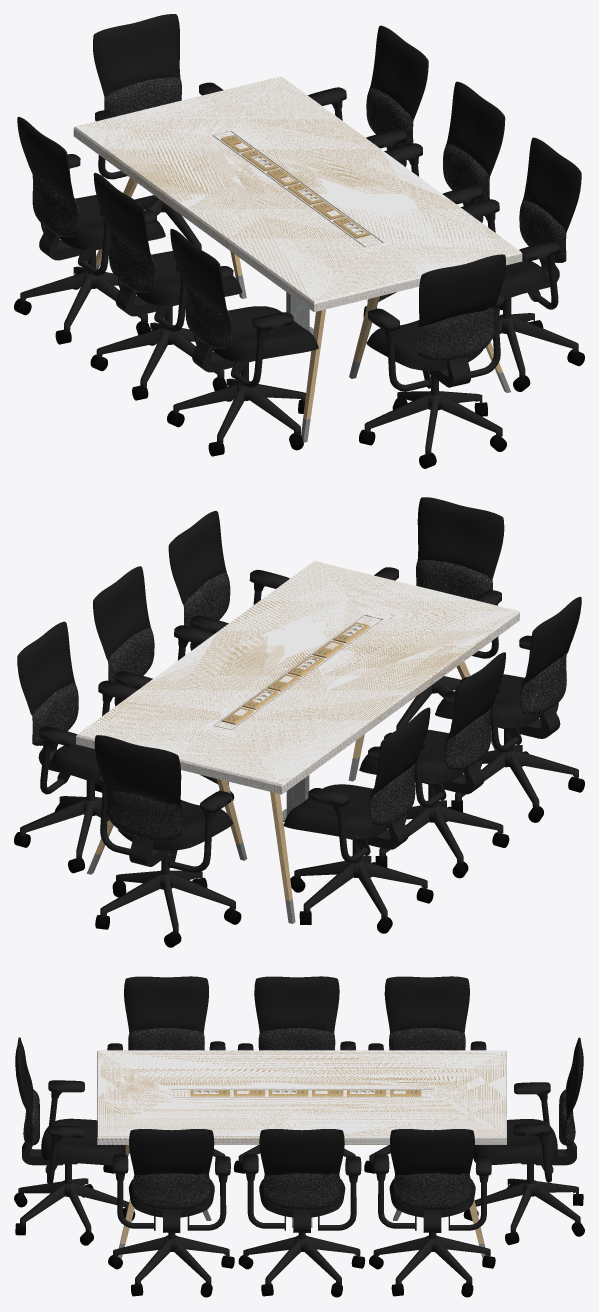
Rendered from meetingTable.dae.
The picture shows the model from 3 angles, top to bottom: view 1: azimuth 30°, elevation 25°; view 2: azimuth 150°, elevation 25°; view 3: azimuth 270°, elevation 25°; orthographic projection. The views are drawn at different scales.
Parts seen in each view (by area): view 1: group_2 (×2), Obj_000003 (×8), Obj_000017 (×8), Obj_000013 (×5), group_7 (×7), Obj_000012 (×4), Group_46, Obj_000021_1, group_8; view 2: group_2 (×2), Obj_000003 (×8), Obj_000017 (×8), Obj_000013 (×5), group_7 (×7), Obj_000012 (×4), Group_46, Obj_000021_1; view 3: group_2 (×2), Obj_000003 (×8), Obj_000017 (×8), group_7 (×16), Obj_000013 (×5), Obj_000021_1 (×6), group_8 (×4), Obj_000012 (×2).
Part boxes in pixels (box(x1,y1,x2,y2)): group_2 (×2): box(73, 76, 522, 312); Obj_000003 (×8): box(17, 14, 581, 327); Obj_000017 (×8): box(32, 77, 566, 360); Obj_000013 (×5): box(60, 195, 547, 371); group_7 (×7): box(20, 272, 578, 436); Obj_000012 (×4): box(39, 234, 471, 387); Group_46: box(303, 296, 502, 419); Obj_000021_1: box(387, 339, 429, 391); group_8: box(252, 312, 293, 330); group_2 (×2): box(76, 561, 519, 794); Obj_000003 (×8): box(17, 497, 581, 808); Obj_000017 (×8): box(32, 560, 566, 841); Obj_000013 (×5): box(50, 674, 539, 850); group_7 (×7): box(20, 750, 578, 916); Obj_000012 (×4): box(129, 712, 560, 866); Group_46: box(95, 779, 292, 900); Obj_000021_1: box(170, 821, 212, 872); group_2 (×2): box(97, 1050, 506, 1144); Obj_000003 (×8): box(15, 976, 583, 1176); Obj_000017 (×8): box(23, 1028, 575, 1209); group_7 (×16): box(20, 1182, 580, 1285); Obj_000013 (×5): box(41, 1118, 557, 1217); Obj_000021_1 (×6): box(117, 1181, 486, 1230); group_8 (×4): box(48, 1080, 550, 1137); Obj_000012 (×2): box(22, 1142, 576, 1165).
Bounding box in the file's own units: 78.3 × 121 × 38.98.
15 materials, 3 textured.
